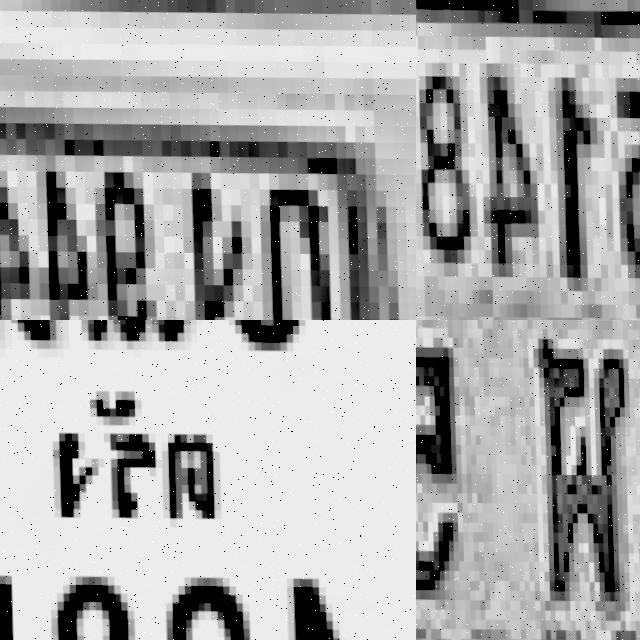license-plate: (0, 320, 416, 640), (0, 56, 416, 320), (416, 0, 640, 320), (416, 320, 640, 640)
